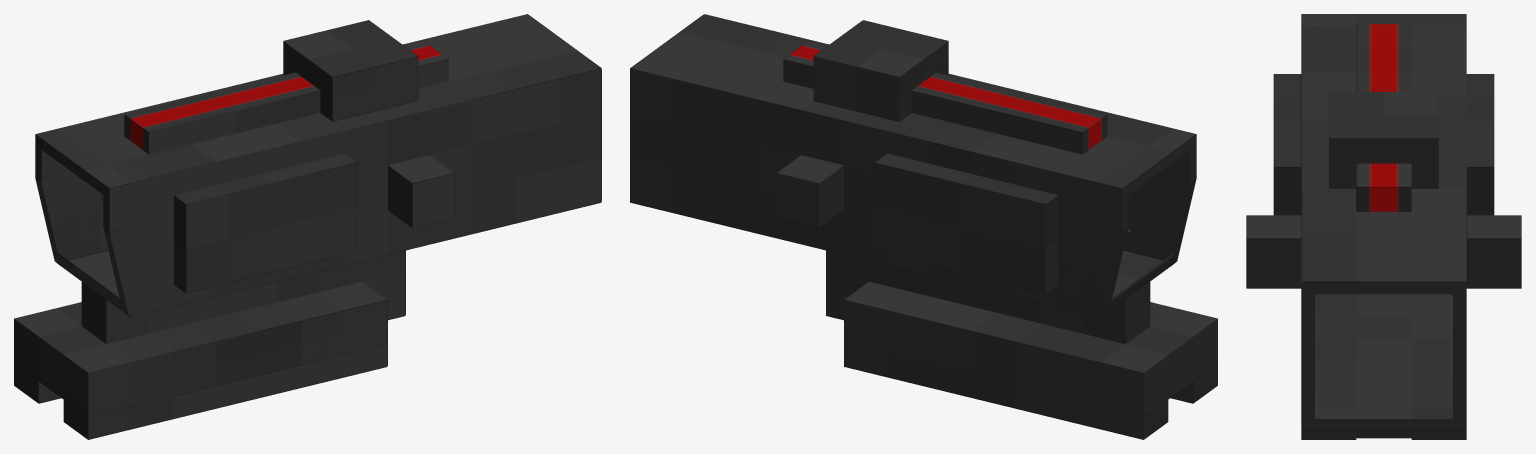
File: acog_sight.obj
The picture shows the model from 3 angles, left to right: view 1: azimuth 30°, elevation 25°; view 2: azimuth 150°, elevation 25°; view 3: azimuth 270°, elevation 25°; orthographic projection. The views are drawn at different scales.
Visible parts, largest first — view 1: Shape5, Shape2, Shape12, Shape3, Shape9, Shape6, Shape1, Shape10, Shape11, Shape7, Shape4; view 2: Shape5, Shape2, Shape13, Shape9, Shape6, Shape1, Shape4, Shape10, Shape11, Shape8, Shape3; view 3: Shape5, Shape6, Shape9, Shape7, Shape8, Shape12, Shape13, Shape10, Shape3, Shape4, Shape1.
Part boxes in pixels (<box>): Shape5: <box>57,14,601,317</box>; Shape2: <box>14,281,387,417</box>; Shape12: <box>174,153,357,293</box>; Shape3: <box>63,323,387,439</box>; Shape9: <box>124,41,448,154</box>; Shape6: <box>283,20,418,121</box>; Shape1: <box>81,250,405,343</box>; Shape10: <box>35,127,152,232</box>; Shape11: <box>35,167,169,315</box>; Shape7: <box>388,155,455,227</box>; Shape4: <box>14,341,61,403</box>; Shape5: <box>630,14,1174,317</box>; Shape2: <box>844,281,1217,417</box>; Shape13: <box>874,153,1057,293</box>; Shape9: <box>783,41,1107,154</box>; Shape6: <box>813,20,948,121</box>; Shape1: <box>826,250,1150,343</box>; Shape4: <box>844,323,1168,439</box>; Shape10: <box>1079,129,1196,232</box>; Shape11: <box>1061,169,1196,315</box>; Shape8: <box>776,155,843,227</box>; Shape3: <box>1170,354,1217,403</box>; Shape5: <box>1301,25,1466,431</box>; Shape6: <box>1329,92,1438,188</box>; Shape9: <box>1356,24,1411,211</box>; Shape7: <box>1246,215,1301,288</box>; Shape8: <box>1466,215,1521,288</box>; Shape12: <box>1273,74,1301,215</box>; Shape13: <box>1466,74,1494,215</box>; Shape10: <box>1301,14,1466,37</box>; Shape3: <box>1301,431,1356,439</box>; Shape4: <box>1411,431,1466,439</box>; Shape1: <box>1356,431,1411,438</box>.
Bounding box in the file's own units: 0.75 × 0.4062 × 0.3125.
